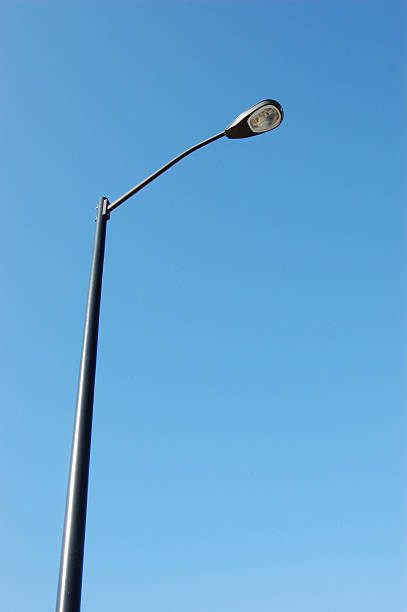light_pole: (56, 213, 112, 603)
